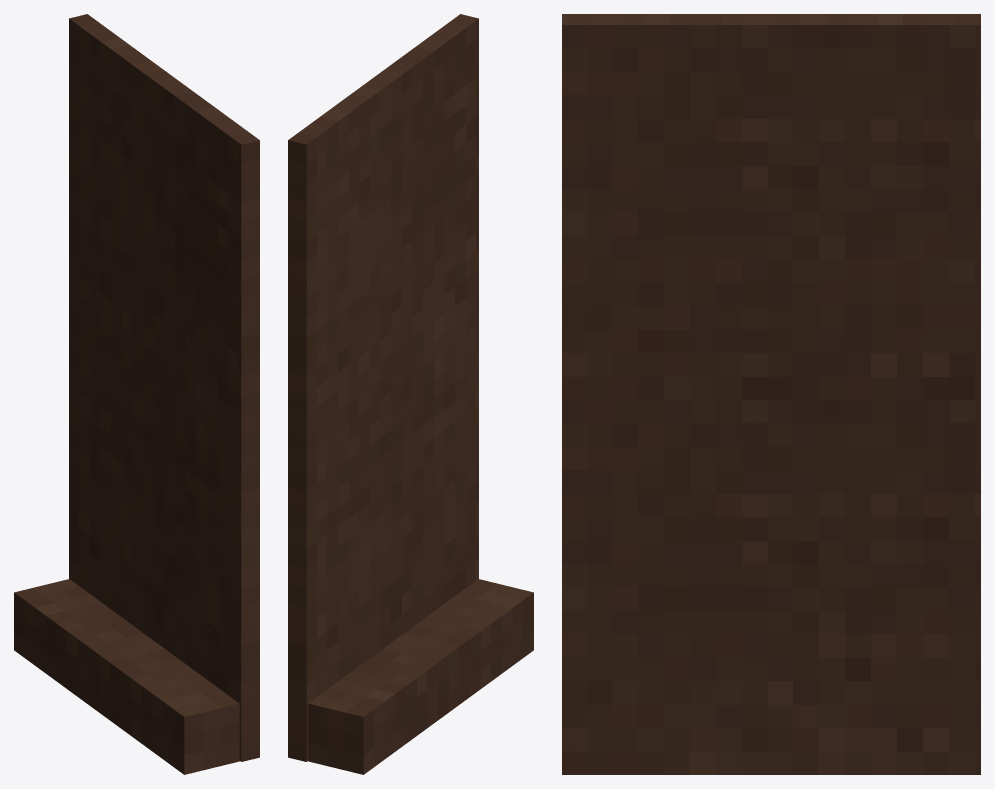
Rendered from red_cloth_2straight.obj.
3 views of the same model, side by side, from view 1: azimuth 30°, elevation 25°; view 2: azimuth 150°, elevation 25°; view 3: azimuth 270°, elevation 25° (orthographic). The views are drawn at different scales.
Visible parts, largest first — view 1: cube; view 2: cube; view 3: cube.
Part boxes in pixels (x1,y1,x2,y2): cube: (14,14,259,774); cube: (288,14,533,774); cube: (562,14,980,774).
Bounding box in the file's own units: 0.2525 × 2 × 1.01.
